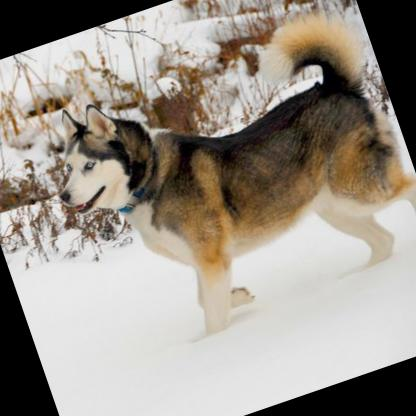Eskimo_dog: (29, 0, 416, 363)
